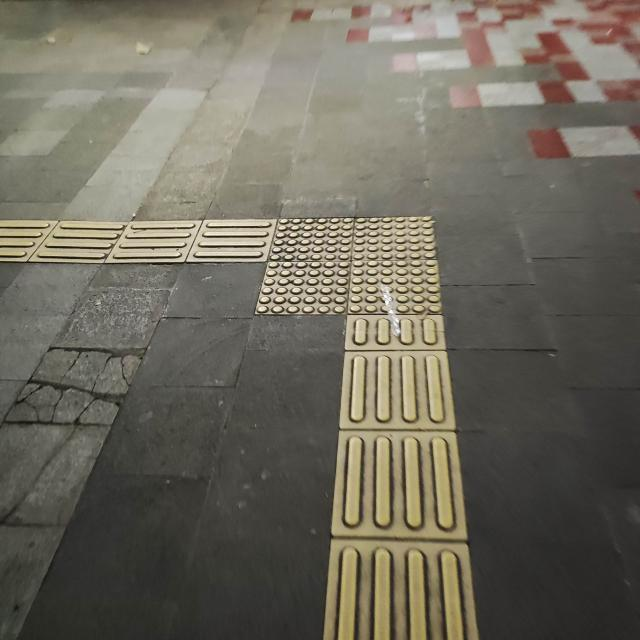kiri: (124, 168, 472, 365)
